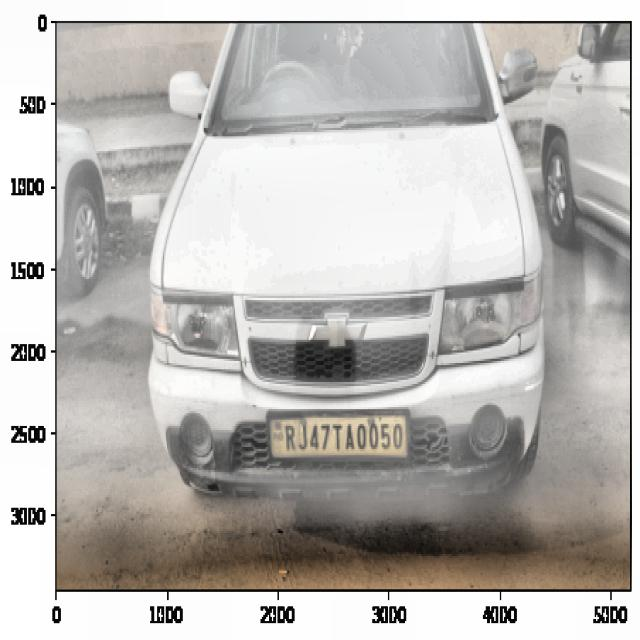license_plate: (282, 415, 408, 459)
